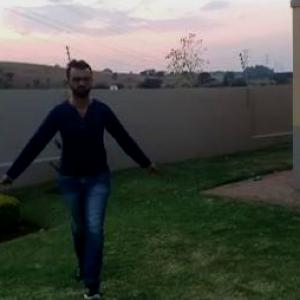land: (1, 35, 164, 299)
